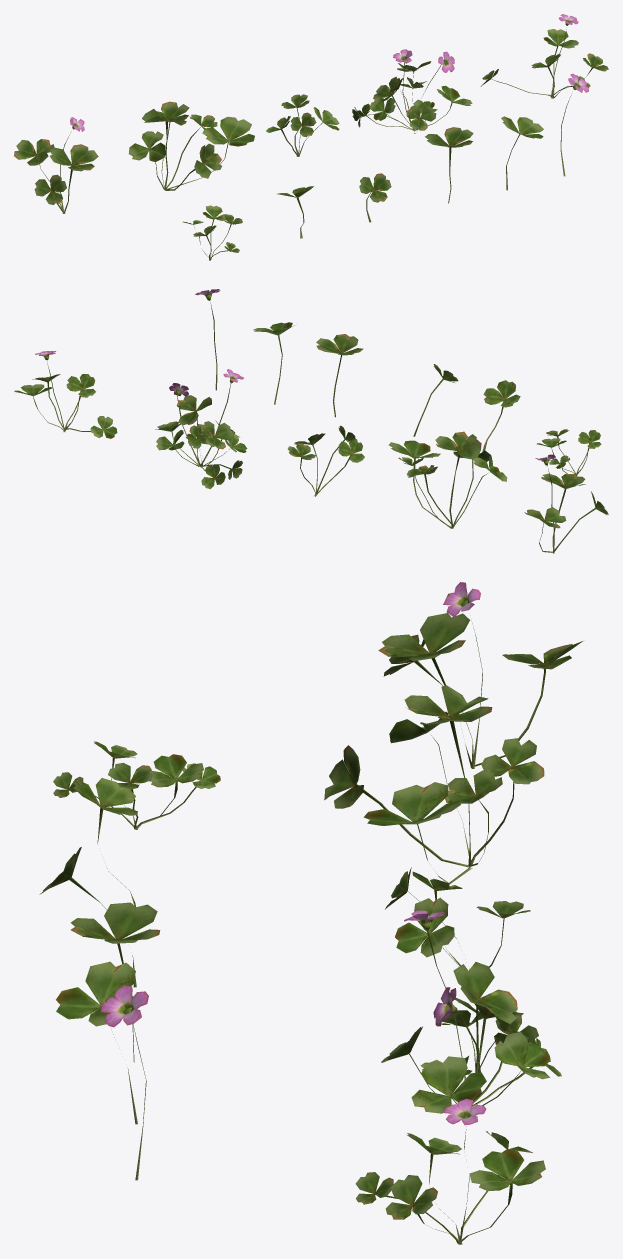
Rendered from shrub_sorrel_01.glb.
3 renders of one model, top to bottom at view 1: azimuth 30°, elevation 25°; view 2: azimuth 150°, elevation 25°; view 3: azimuth 270°, elevation 25°, orthographic. The views are drawn at different scales.
Visible parts, largest first — view 1: shrub_sorrel_01_b, shrub_sorrel_01_d, shrub_sorrel_01_a, shrub_sorrel_01_e, shrub_sorrel_01_c, shrub_sorrel_01_f, shrub_sorrel_01_i, shrub_sorrel_01_h, shrub_sorrel_01_j, shrub_sorrel_01_k; view 2: shrub_sorrel_01_d, shrub_sorrel_01_b, shrub_sorrel_01_e, shrub_sorrel_01_a, shrub_sorrel_01_c, shrub_sorrel_01_f, shrub_sorrel_01_i, shrub_sorrel_01_g, shrub_sorrel_01_j; view 3: shrub_sorrel_01_b, shrub_sorrel_01_d, shrub_sorrel_01_e, shrub_sorrel_01_a, shrub_sorrel_01_f, shrub_sorrel_01_c, shrub_sorrel_01_j, shrub_sorrel_01_i, shrub_sorrel_01_k, shrub_sorrel_01_g.
Part boxes in pixels (x1,y1,x2,y2): shrub_sorrel_01_b: (128, 101, 254, 190); shrub_sorrel_01_d: (352, 49, 472, 133); shrub_sorrel_01_a: (14, 117, 98, 213); shrub_sorrel_01_e: (480, 14, 608, 98); shrub_sorrel_01_c: (266, 94, 339, 156); shrub_sorrel_01_f: (182, 205, 242, 260); shrub_sorrel_01_i: (425, 127, 473, 203); shrub_sorrel_01_h: (359, 173, 391, 222); shrub_sorrel_01_j: (501, 116, 543, 190); shrub_sorrel_01_k: (560, 73, 588, 176); shrub_sorrel_01_d: (155, 369, 247, 489); shrub_sorrel_01_b: (388, 431, 507, 528); shrub_sorrel_01_e: (14, 351, 117, 438); shrub_sorrel_01_a: (524, 454, 608, 553); shrub_sorrel_01_c: (287, 425, 364, 496); shrub_sorrel_01_f: (537, 429, 601, 475); shrub_sorrel_01_i: (316, 334, 363, 417); shrub_sorrel_01_g: (482, 380, 520, 451); shrub_sorrel_01_j: (253, 322, 294, 404); shrub_sorrel_01_b: (324, 685, 544, 884); shrub_sorrel_01_d: (381, 910, 561, 1113); shrub_sorrel_01_e: (355, 1098, 545, 1244); shrub_sorrel_01_a: (378, 582, 582, 768); shrub_sorrel_01_f: (53, 741, 220, 829); shrub_sorrel_01_c: (385, 867, 530, 969); shrub_sorrel_01_j: (56, 961, 137, 1124); shrub_sorrel_01_i: (70, 902, 160, 1062); shrub_sorrel_01_k: (100, 985, 148, 1180); shrub_sorrel_01_g: (73, 778, 137, 906).
Bounding box in the file's own units: 0.3521 × 0.058 × 0.1464.
Materials: 1 (1 with a texture image).
